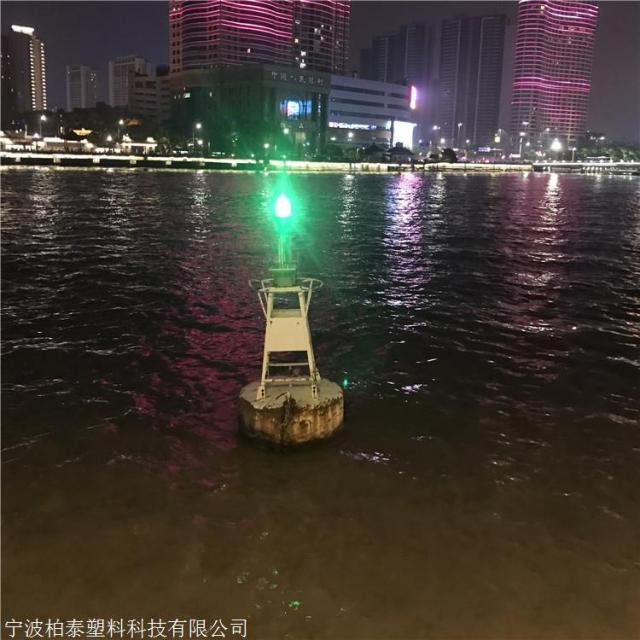buoy: (244, 166, 350, 442)
